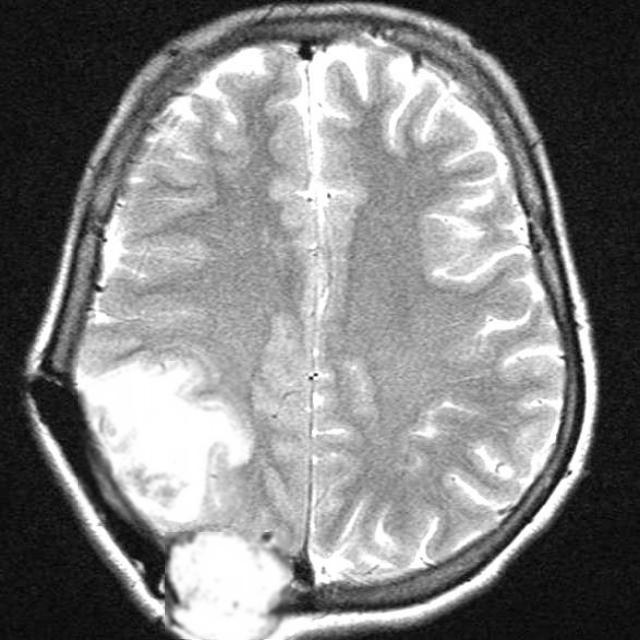Tumor: (78, 362, 246, 519), (166, 532, 289, 639)
